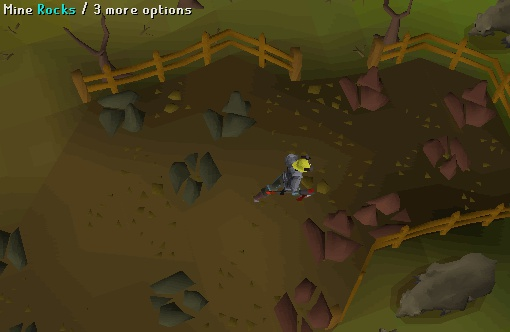coal: (87, 81, 157, 146), (196, 83, 266, 147), (157, 147, 227, 211), (142, 268, 212, 332)
iron: (330, 60, 397, 121), (412, 124, 479, 185), (298, 208, 365, 269)
